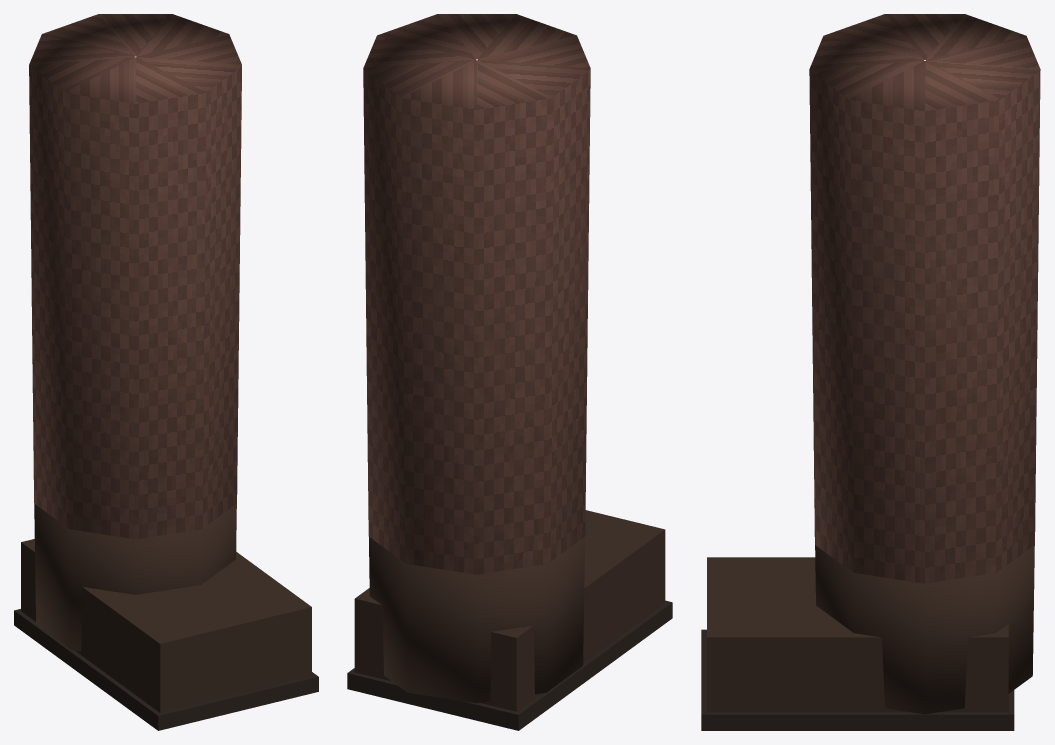
Rendered from keeper-leg.glb.
3 views of the same model, side by side, from view 1: azimuth 30°, elevation 25°; view 2: azimuth 150°, elevation 25°; view 3: azimuth 270°, elevation 25° (orthographic). The views are drawn at different scales.
Parts seen in each view (by area): view 1: keeper-leg; view 2: keeper-leg; view 3: keeper-leg.
Boxes of the visible parts, x1,y1,x2,y2 form: keeper-leg: (14,14,318,730); keeper-leg: (347,14,672,730); keeper-leg: (701,14,1040,730).
Bounding box in the file's own units: 0.2037 × 0.62 × 0.3034.
2 materials, 1 textured.
